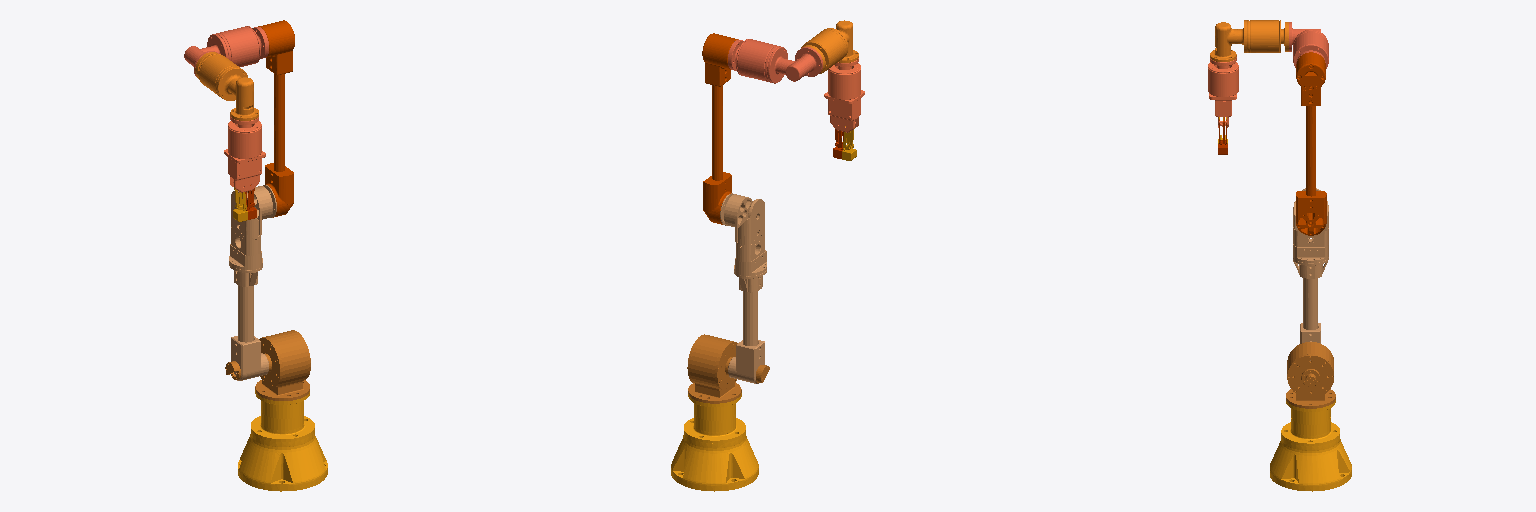
URDF robot description (arm_urdf):
<?xml version="1.0" encoding="utf-8" ?>
<!-- This URDF was automatically created by SolidWorks to URDF Exporter! Originally created by [author] ([email redacted]) 
     Commit Version: 1.6.0-4-g7f85cfe  Build Version: 1.6.7995.38578
     For more information, please see http://wiki.ros.org/sw_urdf_exporter -->
<robot name="arm_urdf">
    <link name="world" />
    <joint name="base_joint" type="fixed">
        <parent link="world" />
        <child link="base_link" />
        <origin rpy="0 0 0" xyz="0.0 0.0 0.87" />
    </joint>
    <link name="base_link">
        <inertial>
            <origin xyz="-5.7174E-07 0.0045412 0.098906" rpy="0 0 0" />
            <mass value="3" />
            <inertia ixx="0.032295" ixy="5.8576E-06" ixz="-3.6591E-08" iyy="0.032303" iyz="1.0399E-07" izz="0.049257" />
        </inertial>
        <visual>
            <origin xyz="0 0 0" rpy="0 0 0" />
            <geometry>
                <mesh filename="package://configured_urdf/meshes/base_link.STL" />
            </geometry>
            <material name="">
                <color rgba="1 0.674 0.109 1" />
            </material>
        </visual>
        <collision>
            <origin xyz="0 0 0" rpy="0 0 0" />
            <geometry>
                <mesh filename="package://configured_urdf/meshes/base_link.STL" />
            </geometry>
        </collision>
    </link>
    <link name="link_1">
        <inertial>
            <origin xyz="-0.013855 7.5936E-05 0.086375" rpy="0 0 0" />
            <mass value="1.873" />
            <inertia ixx="0.00566351328283507" ixy="-1.04558937929122E-05" ixz="-6.48034055359616E-07" iyy="0.00839819660152376" iyz="6.49591458494556E-06" izz="0.00429596708244297" />
        </inertial>
        <visual>
            <origin xyz="0 0 0" rpy="0 0 0" />
            <geometry>
                <mesh filename="package://configured_urdf/meshes/link_1.STL" />
            </geometry>
            <material name="">
                <color rgba="0.803 0.498 0.196 1" />
            </material>
        </visual>
        <collision>
            <origin xyz="0 0 0" rpy="0 0 0" />
            <geometry>
                <mesh filename="package://configured_urdf/meshes/link_1.STL" />
            </geometry>
        </collision>
    </link>
    <joint name="joint_1" type="revolute">
        <origin xyz="0 0.00454 0.27675" rpy="0 0 0" />
        <parent link="base_link" />
        <child link="link_1" />
        <axis xyz="0 0 -1" />
        <limit lower="-3.14" upper="3.14" effort="100" velocity="2" />
    </joint>
    <link name="link_2">
        <inertial>
            <origin xyz="0.29593 0.00046382 0.12519" rpy="0 0 0" />
            <mass value="2.5" />
            <inertia ixx="0.00381425219473924" ixy="-6.14347545053114E-07" ixz="3.25630674096076E-07" iyy="0.00253644091656756" iyz="4.62685347382033E-05" izz="0.00455114275469431" />
        </inertial>
        <visual>
            <origin xyz="0 0 0" rpy="0 0 0" />
            <geometry>
                <mesh filename="package://configured_urdf/meshes/link_2.STL" />
            </geometry>
            <material name="">
                <color rgba="0.855 0.6274 0.4274 1" />
            </material>
        </visual>
        <collision>
            <origin xyz="0 0 0" rpy="0 0 0" />
            <geometry>
                <mesh filename="package://configured_urdf/meshes/link_2.STL" />
            </geometry>
        </collision>
    </link>
    <joint name="joint_2" type="revolute">
        <origin xyz="0 0 0.11125" rpy="0 -1.5708 0" />
        <parent link="link_1" />
        <child link="link_2" />
        <axis xyz="0 0 1" />
        <limit lower="-2.5" upper="2.5" effort="100" velocity="1" />
    </joint>
    <link name="link_3">
        <inertial>
            <origin xyz="0.32444 -6.8657E-07 0.039405" rpy="0 0 0" />
            <mass value="1" />
            <inertia ixx="0.00196021824270027" ixy="9.25458253531087E-09" ixz="0.00010306604826548" iyy="0.00515003950689768" iyz="2.37777893997033E-07" izz="0.00549377032977703" />
        </inertial>
        <visual>
            <origin xyz="0 0 0" rpy="0 0 0" />
            <geometry>
                <mesh filename="package://configured_urdf/meshes/link_3.STL" />
            </geometry>
            <material name="">
                <color rgba="0.8 0.33333 0 1" />
            </material>
        </visual>
        <collision>
            <origin xyz="0 0 0" rpy="0 0 0" />
            <geometry>
                <mesh filename="package://configured_urdf/meshes/link_3.STL" />
            </geometry>
        </collision>
    </link>
    <joint name="joint_3" type="revolute">
        <origin xyz="0.55067 0.0010554 0.059019" rpy="3.1416 0 0" />
        <parent link="link_2" />
        <child link="link_3" />
        <axis xyz="0 0 1" />
        <limit lower="-2.5" upper="2.5" effort="100" velocity="3" />
    </joint>
    <link name="link_4">
        <inertial>
            <origin xyz="1.3229E-08 -0.0050573 0.035081" rpy="0 0 0" />
            <mass value="1.744" />
            <inertia ixx="0.00249453144751075" ixy="7.73589000942063E-07" ixz="0.000170421488833695" iyy="0.00280473142887027" iyz="5.087762095777E-10" izz="0.00274584396628007" />
        </inertial>
        <visual>
            <origin xyz="0 0 0" rpy="0 0 0" />
            <geometry>
                <mesh filename="package://configured_urdf/meshes/link_4.STL" />
            </geometry>
            <material name="">
                <color rgba="0.9317 0.4549 0.3176 1" />
            </material>
        </visual>
        <collision>
            <origin xyz="0 0 0" rpy="0 0 0" />
            <geometry>
                <mesh filename="package://configured_urdf/meshes/link_4.STL" />
            </geometry>
        </collision>
    </link>
    <joint name="joint_4" type="revolute">
        <origin xyz="0.55 0 -0.10754" rpy="-3.1416 0 0" />
        <parent link="link_3" />
        <child link="link_4" />
        <axis xyz="0 0 -1" />
        <limit lower="-3.14" upper="3.14" effort="100" velocity="3" />
    </joint>
    <link name="link_5">
        <inertial>
            <origin xyz="-0.0036254 2.0253E-08 0.0394" rpy="0 0 0" />
            <mass value="1.5" />
            <inertia ixx="0.00202763520282033" ixy="-8.51201181339961E-08" ixz="-0.000105317069769619" iyy="0.00234849069953242" iyz="3.03954991529095E-10" izz="0.00214314421305717" />
        </inertial>
        <visual>
            <origin xyz="0 0 0" rpy="0 0 0" />
            <geometry>
                <mesh filename="package://configured_urdf/meshes/link_5.STL" />
            </geometry>
            <material name="">
                <color rgba="0.949 0.549 0.1568 1" />
            </material>
        </visual>
        <collision>
            <origin xyz="0 0 0" rpy="0 0 0" />
            <geometry>
                <mesh filename="package://configured_urdf/meshes/link_5.STL" />
            </geometry>
        </collision>
    </link>
    <joint name="joint_5" type="revolute">
        <origin xyz="0 -0.157 0.14" rpy="1.5708 0 0" />
        <parent link="link_4" />
        <child link="link_5" />
        <axis xyz="0 0 1" />
        <limit lower="-3.14" upper="3.14" effort="100" velocity="3" />
    </joint>
    <link name="link_6">
        <inertial>
            <origin xyz="-8.1852E-05 4.7642E-05 0.015002" rpy="0 0 0" />
            <mass value="1.7" />
            <inertia ixx="0.00129580720562651" ixy="-2.11975079631151E-06" ixz="-8.20914432830694E-07" iyy="0.00147763709203844" iyz="-1.21375457564458E-06" izz="0.00138719029183947" />
        </inertial>
        <visual>
            <origin xyz="0 0 0" rpy="0 0 0" />
            <geometry>
                <mesh filename="package://configured_urdf/meshes/link_6.STL" />
            </geometry>
            <material name="">
                <color rgba="1 0.498 0.3137 1" />
            </material>
        </visual>
        <collision>
            <origin xyz="0 0 0" rpy="0 0 0" />
            <geometry>
                <mesh filename="package://configured_urdf/meshes/link_6.STL" />
            </geometry>
        </collision>
    </link>
    <joint name="joint_6" type="revolute">
        <origin xyz="-0.157 0 0.14" rpy="-1.5708 0 1.5708" />
        <parent link="link_5" />
        <child link="link_6" />
        <axis xyz="0 0 -1" />
        <limit lower="-1.2" upper="4.2" effort="100" velocity="3" />
    </joint>
    <link name="right_gripper">
        <inertial>
            <origin xyz="0.013255 0.080275 0.00033066" rpy="0 0 0" />
            <mass value="0.028855" />
            <inertia ixx="1.2432E-05" ixy="1.8928E-07" ixz="3.263E-12" iyy="4.3852E-06" iyz="-7.5287E-12" izz="1.2567E-05" />
        </inertial>
        <visual>
            <origin xyz="0 0 0" rpy="0 0 0" />
            <geometry>
                <mesh filename="package://configured_urdf/meshes/right_gripper.STL" />
            </geometry>
            <material name="">
                <color rgba="0.8941 0.6078 0.0588 1" />
            </material>
        </visual>
        <collision>
            <origin xyz="0 0 0" rpy="0 0 0" />
            <geometry>
                <mesh filename="package://configured_urdf/meshes/right_gripper.STL" />
            </geometry>
        </collision>
        <dynamics damping="1" friction="1" />
    </link>
    <joint name="right_ee_joint" type="revolute">
        <origin xyz="0.031487 2.5E-05 0.14715" rpy="1.5708 0 -3.1416" />
        <parent link="link_6" />
        <child link="right_gripper" />
        <axis xyz="0 0 -1" />
        <limit lower="-1" upper="0" effort="0.1" velocity="2" />
    </joint>
    <link name="left_gripper">
        <inertial>
            <origin xyz="-0.012568 0.080386 0.00028069" rpy="0 0 0" />
            <mass value="0.028855" />
            <inertia ixx="1.2428E-05" ixy="-2.5801E-07" ixz="3.3277E-12" iyy="4.389E-06" iyz="7.4999E-12" izz="1.2567E-05" />
        </inertial>
        <visual>
            <origin xyz="0 0 0" rpy="0 0 0" />
            <geometry>
                <mesh filename="package://configured_urdf/meshes/left_gripper.STL" />
            </geometry>
            <material name="">
                <color rgba="0.7529 0.2509 0 1" />
            </material>
        </visual>
        <collision>
            <origin xyz="0 0 0" rpy="0 0 0" />
            <geometry>
                <mesh filename="package://configured_urdf/meshes/left_gripper.STL" />
            </geometry>
        </collision>
        <dynamics damping="1" friction="1.0" />
    </link>
    <joint name="left_ee_joint" type="revolute">
        <origin xyz="-0.031487 2.5E-05 0.14715" rpy="1.5708 0 3.1416" />
        <parent link="link_6" />
        <child link="left_gripper" />
        <axis xyz="0 0 -1" />
        <limit lower="0" upper="1" effort="0.1" velocity="2" />
    </joint>
    <transmission name="link_1_trans">
        <type>transmission_interface/SimpleTransmission</type>
        <joint name="joint_1">
            <hardwareInterface>hardware_interface/PositionJointInterface</hardwareInterface>
        </joint>
        <actuator name="link_1_motor">
            <hardwareInterface>hardware_interface/PositionJointInterface</hardwareInterface>
            <mechanicalReduction>1</mechanicalReduction>
        </actuator>
    </transmission>
    <transmission name="link_2_trans">
        <type>transmission_interface/SimpleTransmission</type>
        <joint name="joint_2">
            <hardwareInterface>hardware_interface/PositionJointInterface</hardwareInterface>
        </joint>
        <actuator name="link_2_motor">
            <hardwareInterface>hardware_interface/PositionJointInterface</hardwareInterface>
            <mechanicalReduction>1</mechanicalReduction>
        </actuator>
    </transmission>
    <transmission name="link_3_trans">
        <type>transmission_interface/SimpleTransmission</type>
        <joint name="joint_3">
            <hardwareInterface>hardware_interface/PositionJointInterface</hardwareInterface>
        </joint>
        <actuator name="link_3_motor">
            <hardwareInterface>hardware_interface/PositionJointInterface</hardwareInterface>
            <mechanicalReduction>1</mechanicalReduction>
        </actuator>
    </transmission>
    <transmission name="link_4_trans">
        <type>transmission_interface/SimpleTransmission</type>
        <joint name="joint_4">
            <hardwareInterface>hardware_interface/PositionJointInterface</hardwareInterface>
        </joint>
        <actuator name="link_4_motor">
            <hardwareInterface>hardware_interface/PositionJointInterface</hardwareInterface>
            <mechanicalReduction>1</mechanicalReduction>
        </actuator>
    </transmission>
    <transmission name="link_5_trans">
        <type>transmission_interface/SimpleTransmission</type>
        <joint name="joint_5">
            <hardwareInterface>hardware_interface/PositionJointInterface</hardwareInterface>
        </joint>
        <actuator name="link_5_motor">
            <hardwareInterface>hardware_interface/PositionJointInterface</hardwareInterface>
            <mechanicalReduction>1</mechanicalReduction>
        </actuator>
    </transmission>
    <transmission name="link_6_trans">
        <type>transmission_interface/SimpleTransmission</type>
        <joint name="joint_6">
            <hardwareInterface>hardware_interface/PositionJointInterface</hardwareInterface>
        </joint>
        <actuator name="link_6_motor">
            <hardwareInterface>hardware_interface/PositionJointInterface</hardwareInterface>
            <mechanicalReduction>1</mechanicalReduction>
        </actuator>
    </transmission>
    <transmission name="link_7_trans">
        <type>transmission_interface/SimpleTransmission</type>
        <joint name="right_ee_joint">
            <hardwareInterface>hardware_interface/EffortJointInterface</hardwareInterface>
        </joint>
        <actuator name="link_7_motor">
            <hardwareInterface>hardware_interface/EffortJointInterface</hardwareInterface>
            <mechanicalReduction>1</mechanicalReduction>
        </actuator>
    </transmission>
    <transmission name="link_8_trans">
        <type>transmission_interface/SimpleTransmission</type>
        <joint name="left_ee_joint">
            <hardwareInterface>hardware_interface/EffortJointInterface</hardwareInterface>
        </joint>
        <actuator name="link_8_motor">
            <hardwareInterface>hardware_interface/EffortJointInterface</hardwareInterface>
            <mechanicalReduction>1</mechanicalReduction>
        </actuator>
    </transmission>
    <gazebo>
        <plugin name="control" filename="libgazebo_ros_control.so">
            <robotNamespace>/</robotNamespace>
            <robotSimType>gazebo_ros_control/DefaultRobotHWSim</robotSimType>
        </plugin>
        <plugin name="gazebo_ros_control">
            <robotNamespace>/</robotNamespace>
        </plugin>
    </gazebo>
    <gazebo reference="link_1">
        <mu1>2</mu1>
        <mu2>2</mu2>
    </gazebo>
    <gazebo reference="link_2">
        <mu1>0.2</mu1>
        <mu2>0.2</mu2>
    </gazebo>
    <gazebo reference="link_3">
        <mu1>0.2</mu1>
        <mu2>0.2</mu2>
    </gazebo>
    <gazebo reference="link_4">
        <mu1>0.2</mu1>
        <mu2>0.2</mu2>
    </gazebo>
    <gazebo reference="link_5">
        <mu1>0.2</mu1>
        <mu2>0.2</mu2>
    </gazebo>
    <gazebo reference="link_6">
        <mu1>0.2</mu1>
        <mu2>0.2</mu2>
    </gazebo>
    <gazebo reference="right_gripper">
        <kp>1000000.0</kp>
        <kd>1.0</kd>
        <mu1>30.0</mu1>
        <mu2>30.0</mu2>
    </gazebo>
    <gazebo reference="left_gripper">
        <kp>1000000.0</kp>
        <kd>1.0</kd>
        <mu1>30.0</mu1>
        <mu2>30.0</mu2>
    </gazebo>
    <gazebo>
        <plugin name="gazebo_grasp_fix" filename="libgazebo_grasp_fix.so">
            <arm>
                <arm_name>/</arm_name>
                <palm_link>link_6</palm_link>
                <gripper_link>right_gripper</gripper_link>
                <gripper_link>left_gripper</gripper_link>
            </arm>
            <forces_angle_tolerance>90</forces_angle_tolerance>
            <update_rate>10</update_rate>
            <grip_count_threshold>3</grip_count_threshold>
            <max_grip_count>10</max_grip_count>
            <release_tolerance>0.004</release_tolerance>
            <disable_collisions_on_attach>false</disable_collisions_on_attach>
            <contact_topic>__default_topic__</contact_topic>
        </plugin>
    </gazebo>
</robot>

--- Facts derived from the render (not from the file) ---
Views: 3 orthographic renders of the robot side by side, from view 1: azimuth 30°, elevation 25°; view 2: azimuth 150°, elevation 25°; view 3: azimuth 270°, elevation 25°.
Model arm_urdf with 10 links and 9 joints (8 revolute, 1 fixed), rooted at world, posed all joints at 0.
Visible links, largest first — view 1: base_link, link_2, link_3, link_1, link_5, link_6, link_4; view 2: base_link, link_2, link_3, link_1, link_4, link_6, link_5; view 3: base_link, link_3, link_1, link_2, link_5, link_6, link_4.
Boxes of the visible links, x1,y1,x2,y2 form: base_link: [238, 390, 327, 491]; link_2: [229, 185, 276, 380]; link_3: [258, 20, 294, 217]; link_1: [225, 330, 310, 400]; link_5: [195, 52, 258, 120]; link_6: [224, 116, 265, 192]; link_4: [184, 26, 268, 76]; base_link: [671, 393, 758, 491]; link_2: [720, 193, 766, 383]; link_3: [702, 33, 737, 224]; link_1: [687, 334, 769, 403]; link_4: [728, 39, 822, 83]; link_6: [824, 58, 864, 132]; link_5: [801, 20, 858, 73]; base_link: [1270, 400, 1351, 491]; link_3: [1296, 52, 1326, 235]; link_1: [1286, 342, 1335, 408]; link_2: [1293, 188, 1328, 360]; link_5: [1210, 20, 1288, 61]; link_6: [1208, 57, 1238, 127]; link_4: [1289, 22, 1328, 68].
Bounding box of the posed robot: 0.5014 × 0.4884 × 1.55 m (x, y, z).
9 mesh visuals loaded from 9 distinct referenced files (9 binary STL).